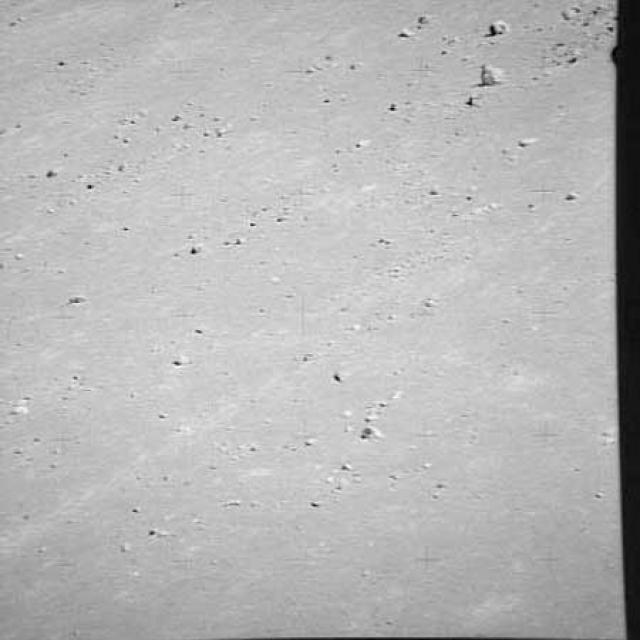rock: (471, 56, 509, 88), (482, 12, 512, 34)
